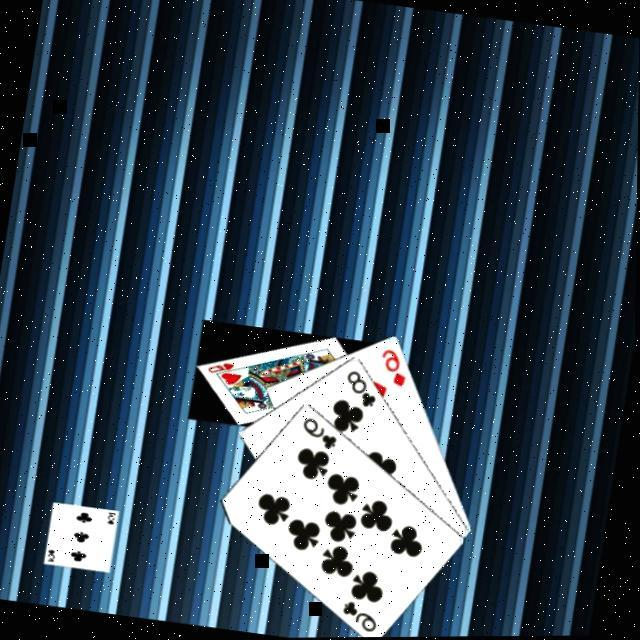6D: (373, 345, 413, 391)
8C: (339, 367, 383, 412)
9C: (296, 413, 342, 453), (337, 597, 383, 637)
